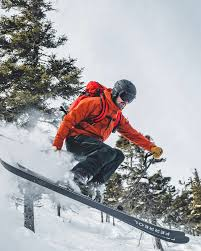skis: (1, 159, 189, 246)
